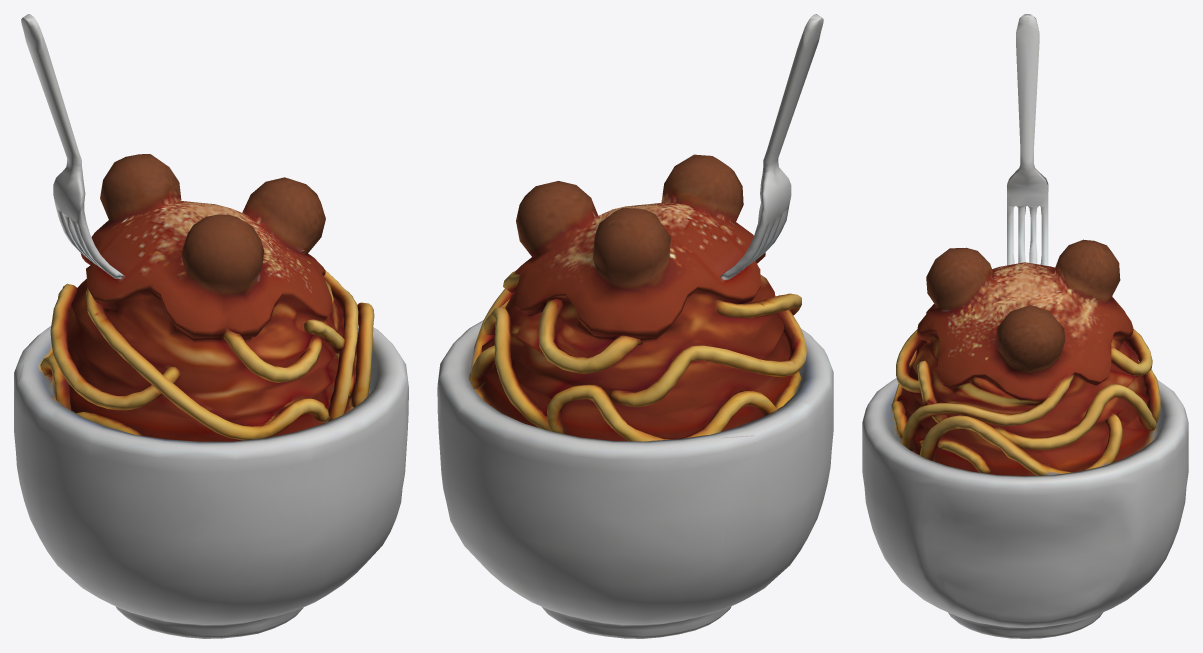
Rendered from spaghetti_bowl.glb.
The picture shows the model from 3 angles, left to right: view 1: azimuth 30°, elevation 25°; view 2: azimuth 150°, elevation 25°; view 3: azimuth 270°, elevation 25°; orthographic projection. The views are drawn at different scales.
Visible parts, largest first — view 1: tripo_node_06d9b65f-6f15-4abd-a8dc-d8926839269d; view 2: tripo_node_06d9b65f-6f15-4abd-a8dc-d8926839269d; view 3: tripo_node_06d9b65f-6f15-4abd-a8dc-d8926839269d.
Boxes of the visible parts, x1=… form: tripo_node_06d9b65f-6f15-4abd-a8dc-d8926839269d: x1=14, y1=14, x2=408, y2=638; tripo_node_06d9b65f-6f15-4abd-a8dc-d8926839269d: x1=437, y1=14, x2=833, y2=638; tripo_node_06d9b65f-6f15-4abd-a8dc-d8926839269d: x1=862, y1=14, x2=1188, y2=638.
Bounding box in the file's own units: 0.5918 × 0.998 × 0.5684.
1 material, 1 textured.
